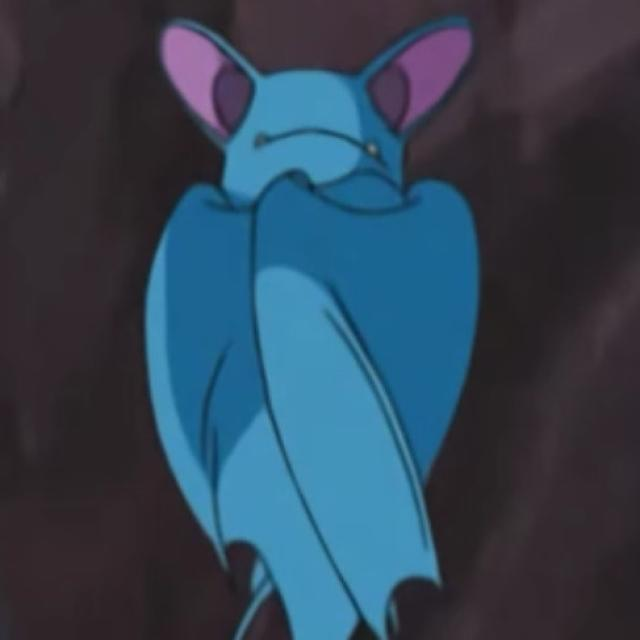Zubat: (96, 6, 536, 640)
